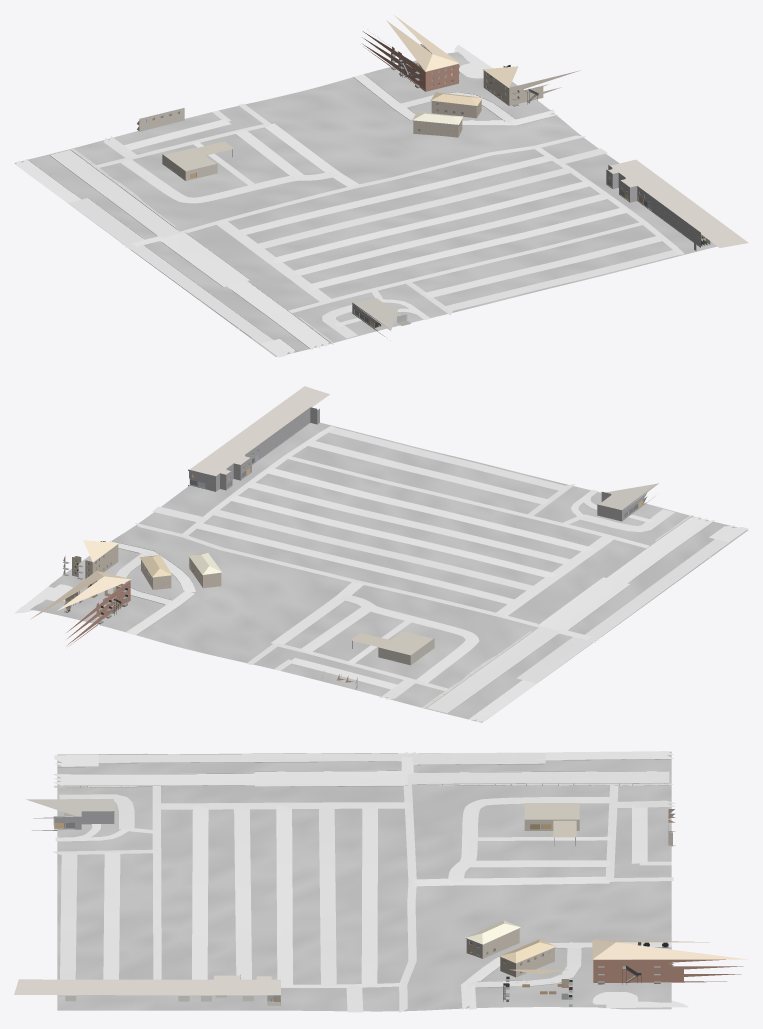
3 renders of one model, top to bottom at view 1: azimuth 30°, elevation 25°; view 2: azimuth 150°, elevation 25°; view 3: azimuth 270°, elevation 25°, orthographic. The views are drawn at different scales.
Visible parts, largest first — view 1: ground, concrete, asphalt, roof_flat, wall, wall_com, roof, curb, detail, water; view 2: ground, concrete, asphalt, roof_flat, wall_com, roof, wall, curb, detail, water; view 3: ground, concrete, asphalt, roof_flat, wall, roof, curb, wall_com, water, room, detail, mark_w (+2 smaller).
Part boxes in pixels (x1=…): ground: x1=14, y1=52, x2=716, y2=356; concrete: x1=96, y1=74, x2=684, y2=338; asphalt: x1=15, y1=150, x2=328, y2=357; roof_flat: x1=164, y1=141, x2=748, y2=330; wall: x1=362, y1=31, x2=580, y2=137; wall_com: x1=137, y1=108, x2=700, y2=336; roof: x1=386, y1=15, x2=518, y2=124; curb: x1=27, y1=74, x2=556, y2=350; detail: x1=145, y1=37, x2=651, y2=329; water: x1=454, y1=45, x2=492, y2=78; ground: x1=21, y1=422, x2=748, y2=722; concrete: x1=108, y1=426, x2=711, y2=699; asphalt: x1=427, y1=516, x2=748, y2=721; roof_flat: x1=189, y1=386, x2=658, y2=655; wall_com: x1=188, y1=407, x2=653, y2=689; roof: x1=30, y1=540, x2=221, y2=619; wall: x1=63, y1=544, x2=221, y2=645; curb: x1=112, y1=515, x2=725, y2=718; detail: x1=63, y1=449, x2=645, y2=684; water: x1=14, y1=584, x2=72, y2=613; ground: x1=57, y1=751, x2=671, y2=1011; concrete: x1=52, y1=751, x2=675, y2=1012; asphalt: x1=53, y1=751, x2=673, y2=786; roof_flat: x1=14, y1=799, x2=579, y2=995; wall: x1=466, y1=928, x2=743, y2=982; roof: x1=465, y1=920, x2=747, y2=974; curb: x1=54, y1=753, x2=673, y2=1008; wall_com: x1=32, y1=811, x2=675, y2=979; water: x1=592, y1=992, x2=688, y2=1008; room: x1=53, y1=809, x2=675, y2=1005; detail: x1=55, y1=811, x2=668, y2=1009; mark_w: x1=62, y1=751, x2=672, y2=786.
Size of the model in its own units: 277 by 17.19 by 299.
